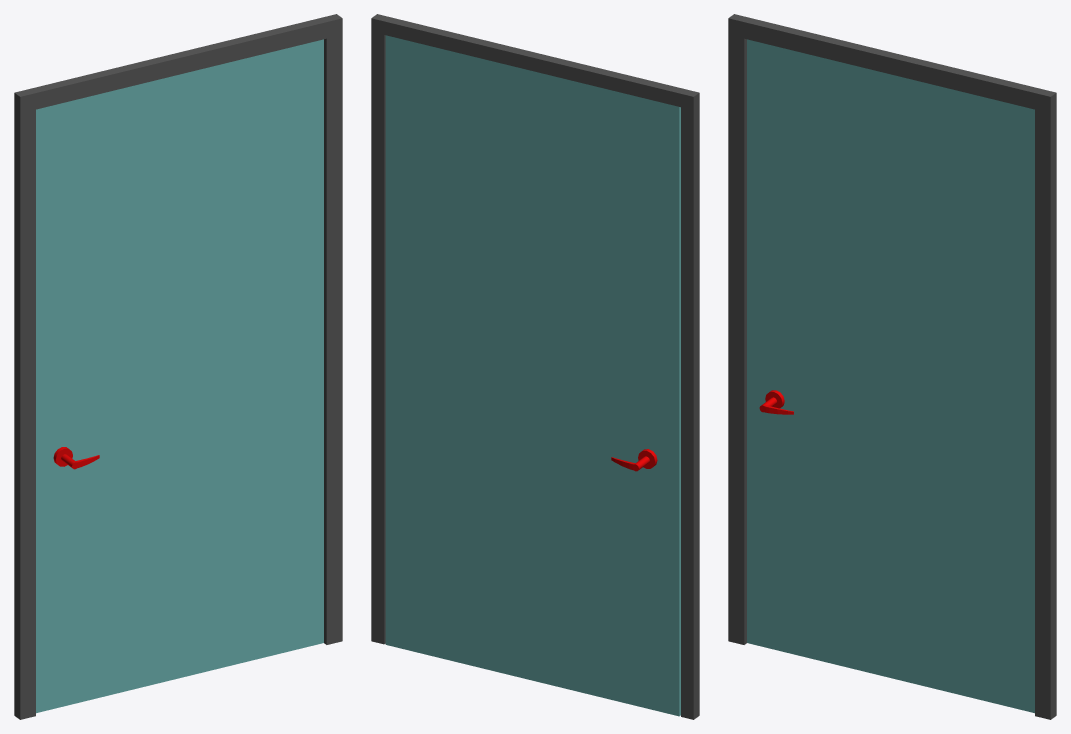
The model's file is GlassDoor.fbx.
3 renders of one model, left to right at view 1: azimuth 30°, elevation 25°; view 2: azimuth 150°, elevation 25°; view 3: azimuth 330°, elevation 25°, orthographic.
Visible parts, largest first — view 1: GlassDoor; view 2: GlassDoor; view 3: GlassDoor.
Boxes of the visible parts, bbox=[...] form: GlassDoor: bbox=[14, 14, 342, 719]; GlassDoor: bbox=[371, 14, 699, 719]; GlassDoor: bbox=[728, 14, 1056, 719].
Size of the model in its own units: 111 by 205 by 17.57.
